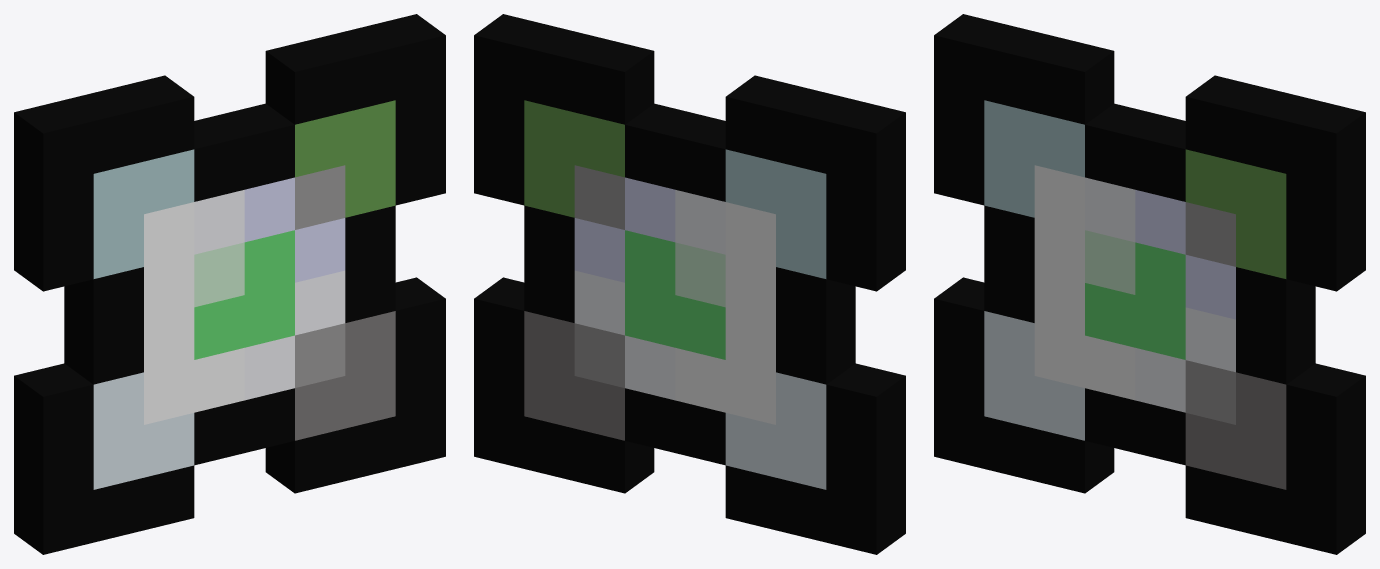
Rendered from Caught Mob Spirit_Golem Default.glb.
3 renders of one model, left to right at view 1: azimuth 30°, elevation 25°; view 2: azimuth 150°, elevation 25°; view 3: azimuth 330°, elevation 25°, orthographic.
Parts seen in each view (by area): view 1: generated(Clone); view 2: generated(Clone); view 3: generated(Clone).
Boxes of the visible parts, x1,y1,x2,y2 form: generated(Clone): (14, 14, 445, 554); generated(Clone): (474, 14, 905, 554); generated(Clone): (934, 14, 1365, 554).
Bounding box in the file's own units: 8 × 8 × 1.
1 material, 1 textured.
